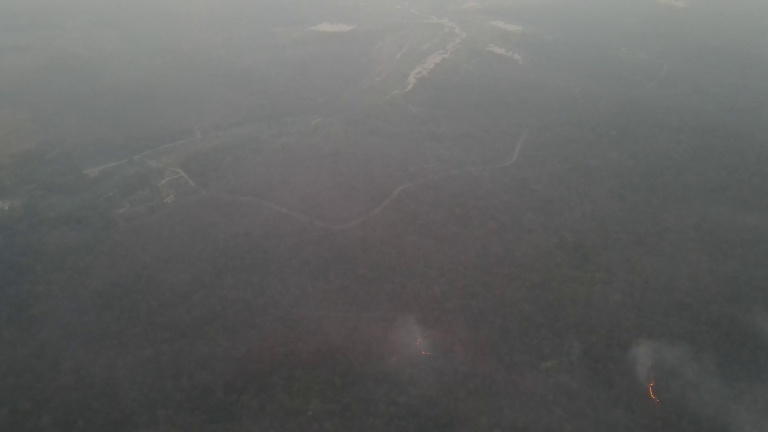fire: (412, 328, 443, 363), (646, 362, 661, 406)
smoke: (627, 330, 768, 429), (382, 307, 467, 384)
